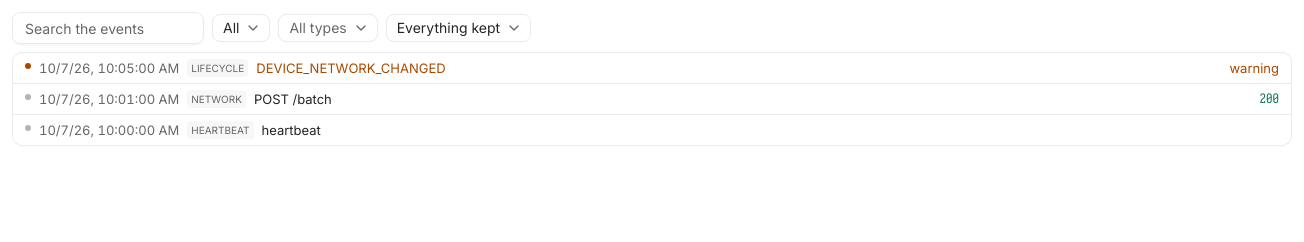
Test: el timeline › va por hora, pinta el aviso como aviso, y un latido enseña su contenido
Expected: the list item that starts with "10/7/26, 10:05:00 AM" shows "DEVICE_NETWORK_CHANGED", [13,53,1291,83]
Expected: the text "DEVICE_NETWORK_CHANGED" is shown, [256,60,446,76]
# El latido, abierto, enseña sus contadores.
Click the button "10/7/26, 10:00:00 AM heartbeat heartbeat".
click(109, 130)  # box [13,115,1291,145]
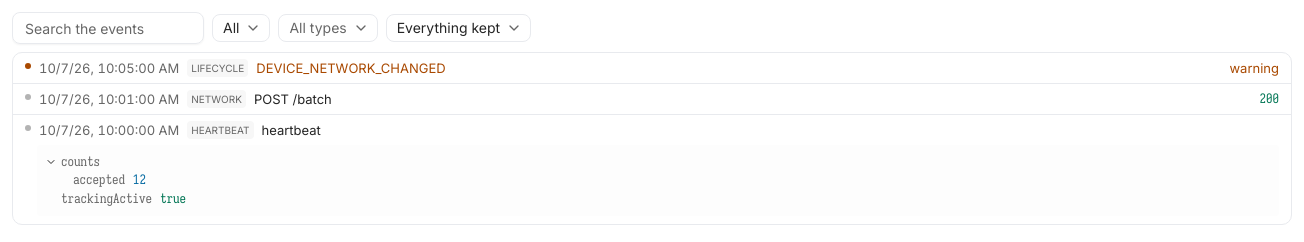
Now the list item that starts with "10/7/26, 10:00:00 AM" shows "accepted", box [73,171,125,188]
Now the list item that starts with "10/7/26, 10:00:00 AM" shows "12", box [133,171,146,188]
